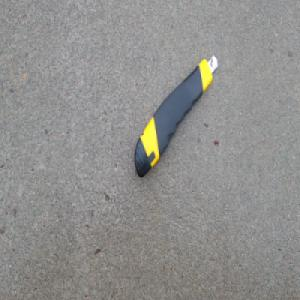Cutter: (133, 52, 218, 179)
